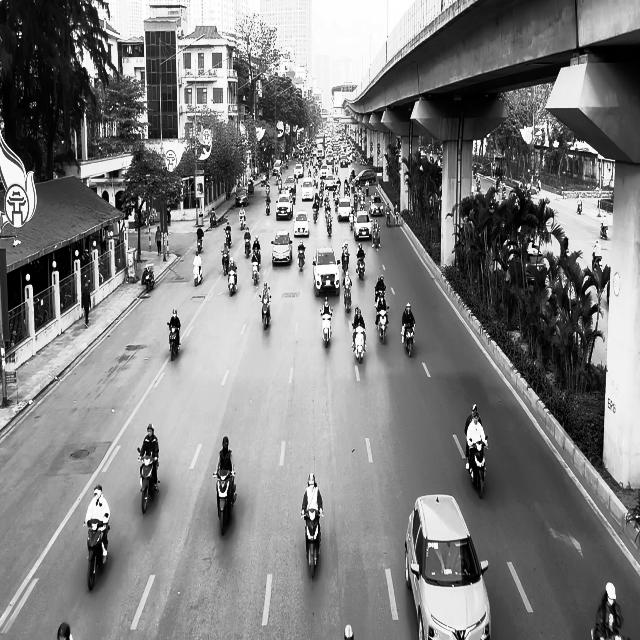car: (404, 493, 492, 639), (312, 246, 340, 297), (270, 230, 292, 266), (353, 212, 373, 240), (275, 194, 293, 220), (294, 210, 309, 237), (337, 198, 352, 221), (370, 194, 384, 216), (301, 177, 313, 201), (235, 187, 249, 206)
motorbike: (84, 518, 109, 591), (212, 470, 236, 535), (137, 447, 159, 514), (301, 510, 322, 580), (467, 438, 488, 498), (351, 322, 366, 363), (375, 306, 389, 344), (401, 322, 416, 357), (167, 322, 180, 361), (320, 308, 332, 347), (259, 294, 271, 329), (142, 264, 154, 292), (342, 281, 352, 312), (193, 257, 202, 286), (228, 270, 238, 296), (251, 257, 260, 285), (356, 253, 365, 280), (221, 250, 229, 276), (298, 246, 306, 271), (224, 228, 232, 246), (244, 238, 251, 258), (239, 211, 245, 230), (197, 235, 203, 253), (265, 196, 270, 215)
